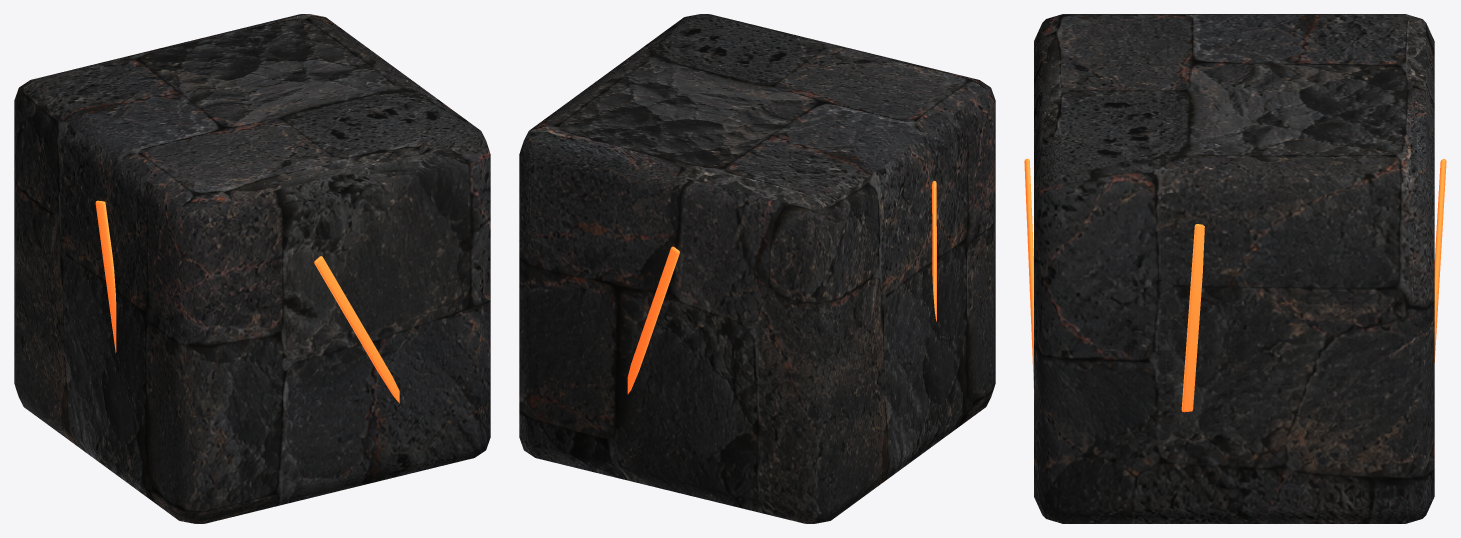
File: w3_block_c.glb
3 views of the same model, side by side, from view 1: azimuth 30°, elevation 25°; view 2: azimuth 150°, elevation 25°; view 3: azimuth 270°, elevation 25° (orthographic). The views are drawn at different scales.
Parts seen in each view (by area): view 1: w3_block_c; view 2: w3_block_c; view 3: w3_block_c.
Part boxes in pixels (x1,y1,x2,y2): w3_block_c: [14, 14, 490, 523]; w3_block_c: [519, 14, 995, 523]; w3_block_c: [1024, 14, 1446, 523].
Size of the model in its own units: 1.88 by 1.79 by 1.89.
Materials: 2 (1 with a texture image).
